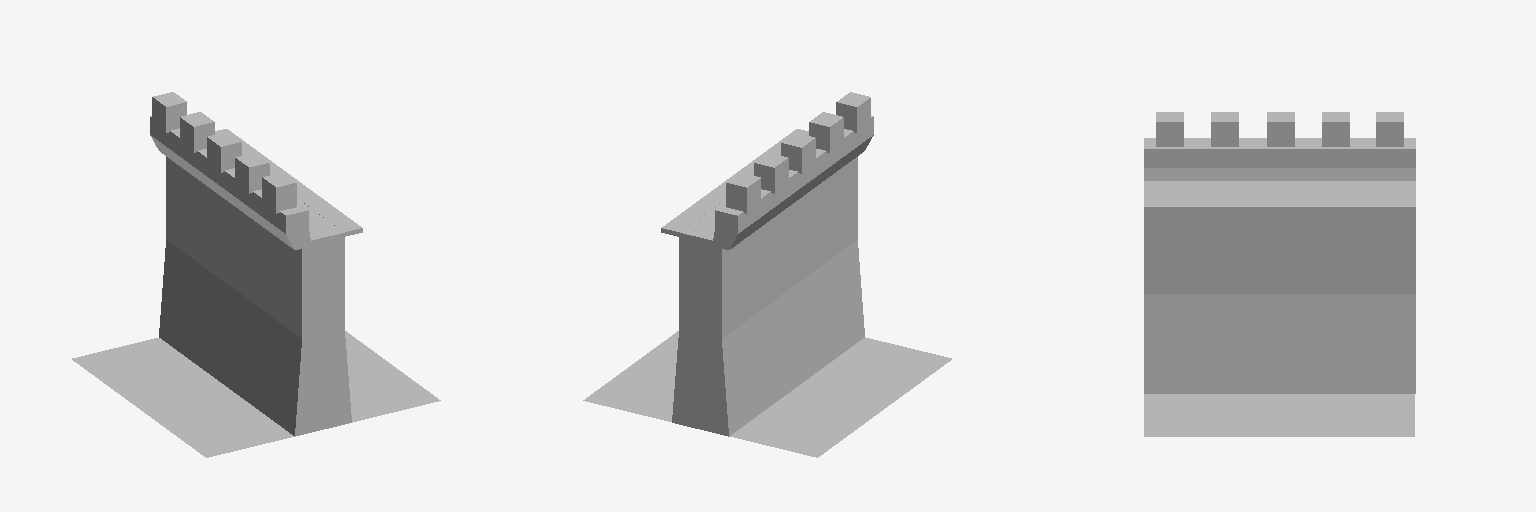
Rendered from Wall1LoPoly.obj.
3 views of the same model, side by side, from view 1: azimuth 30°, elevation 25°; view 2: azimuth 150°, elevation 25°; view 3: azimuth 270°, elevation 25° (orthographic).
Parts seen in each view (by area): view 1: limestone, grass, floor; view 2: limestone, grass, floor; view 3: limestone, grass, floor.
Part boxes in pixels (x1,y1,x2,y2): limestone: (150,92,351,436); grass: (72,331,440,457); floor: (215,129,362,236); limestone: (672,92,873,436); grass: (583,331,951,457); floor: (661,129,808,236); limestone: (1144,112,1415,393); grass: (1144,394,1414,436); floor: (1144,198,1415,210).
Bounding box in the file's own units: 76 × 76.58 × 76.25.